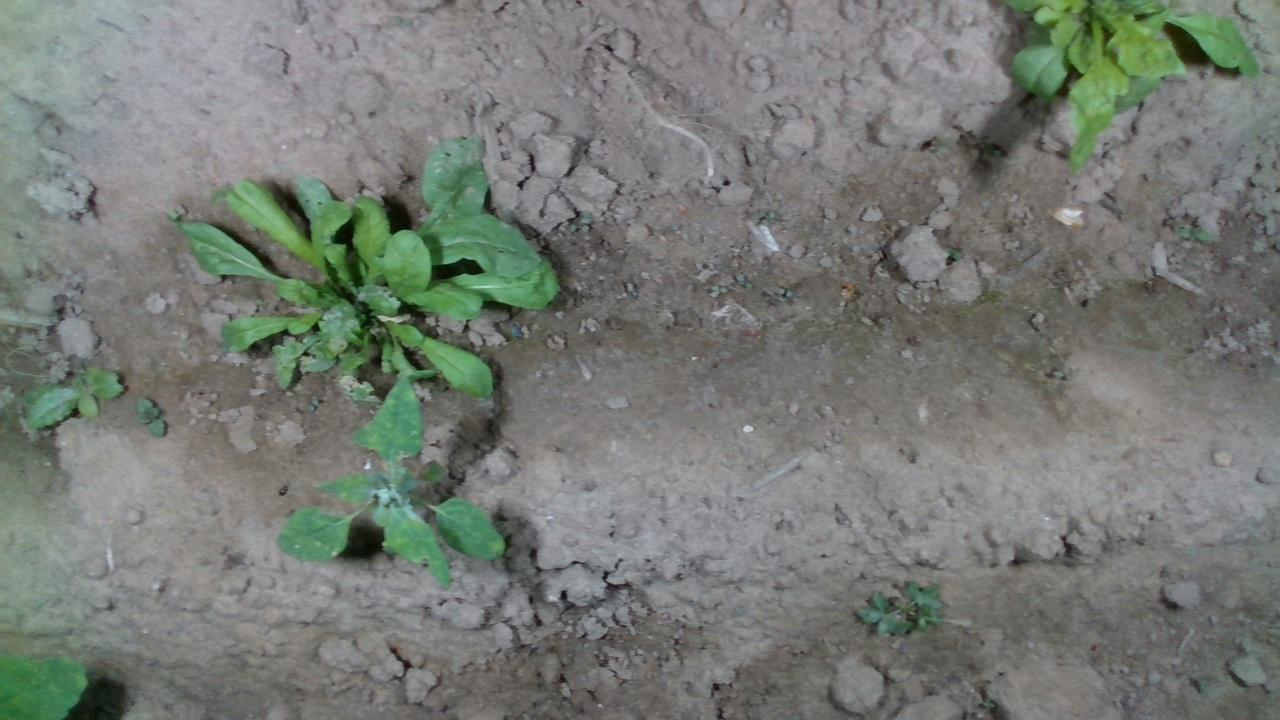weed: (23, 364, 123, 430), (132, 395, 167, 436)
